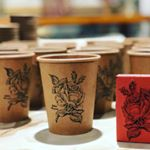cups: (34, 51, 104, 138), (1, 49, 37, 128)
